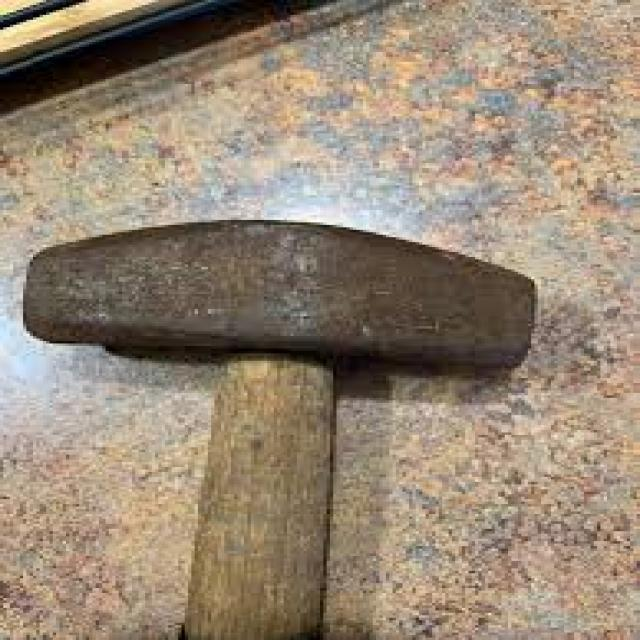hammer: (0, 210, 558, 638)
